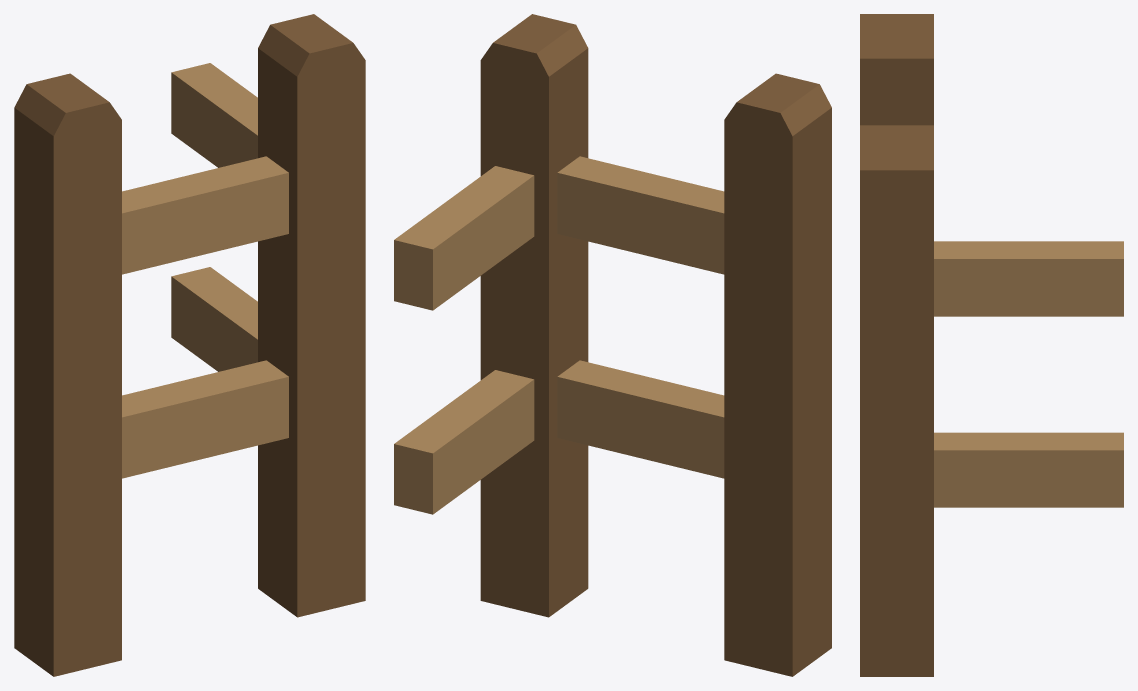
Rendered from TW_WOOD_CORNER_L90_A_LOD0.glb.
3 views of the same model, side by side, from view 1: azimuth 30°, elevation 25°; view 2: azimuth 150°, elevation 25°; view 3: azimuth 270°, elevation 25° (orthographic). The views are drawn at different scales.
Visible parts, largest first — view 1: TW_WOOD_CORNER_L90_A_LOD0; view 2: TW_WOOD_CORNER_L90_A_LOD0; view 3: TW_WOOD_CORNER_L90_A_LOD0.
Part boxes in pixels (x1,y1,x2,y2): TW_WOOD_CORNER_L90_A_LOD0: (14,14,365,676); TW_WOOD_CORNER_L90_A_LOD0: (394,14,831,676); TW_WOOD_CORNER_L90_A_LOD0: (860,14,1123,676).
Size of the model in its own units: 0.64 by 1.1 by 0.5.
Materials: 1 (1 with a texture image).
